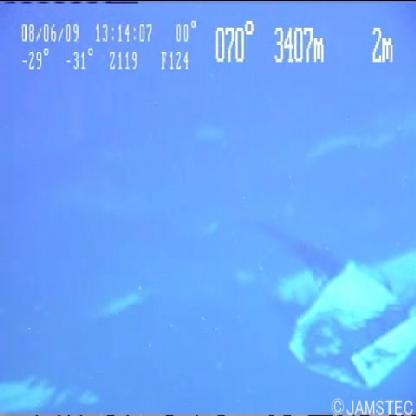Rác: (261, 234, 416, 393)
